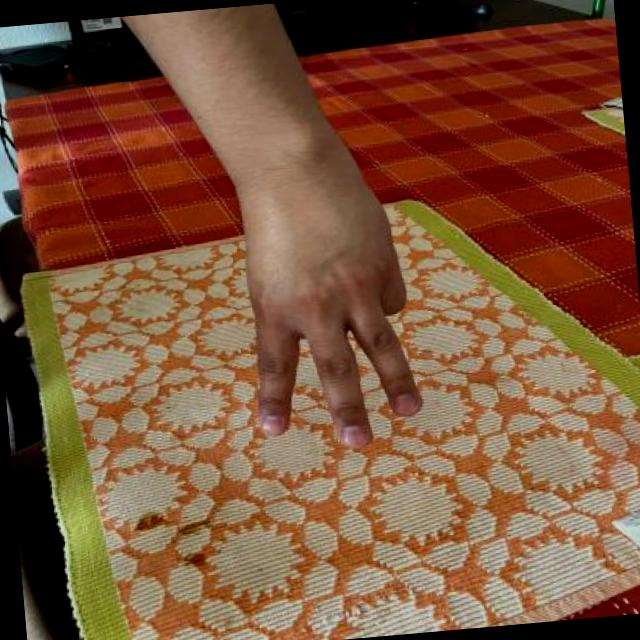M: (224, 138, 440, 462)
